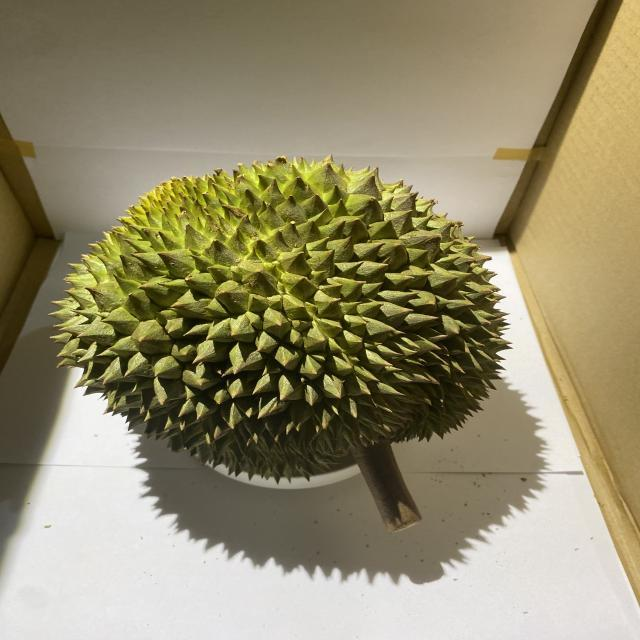immature: (48, 152, 512, 482)
